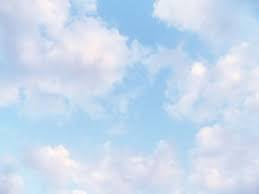sky: (1, 1, 257, 191)
